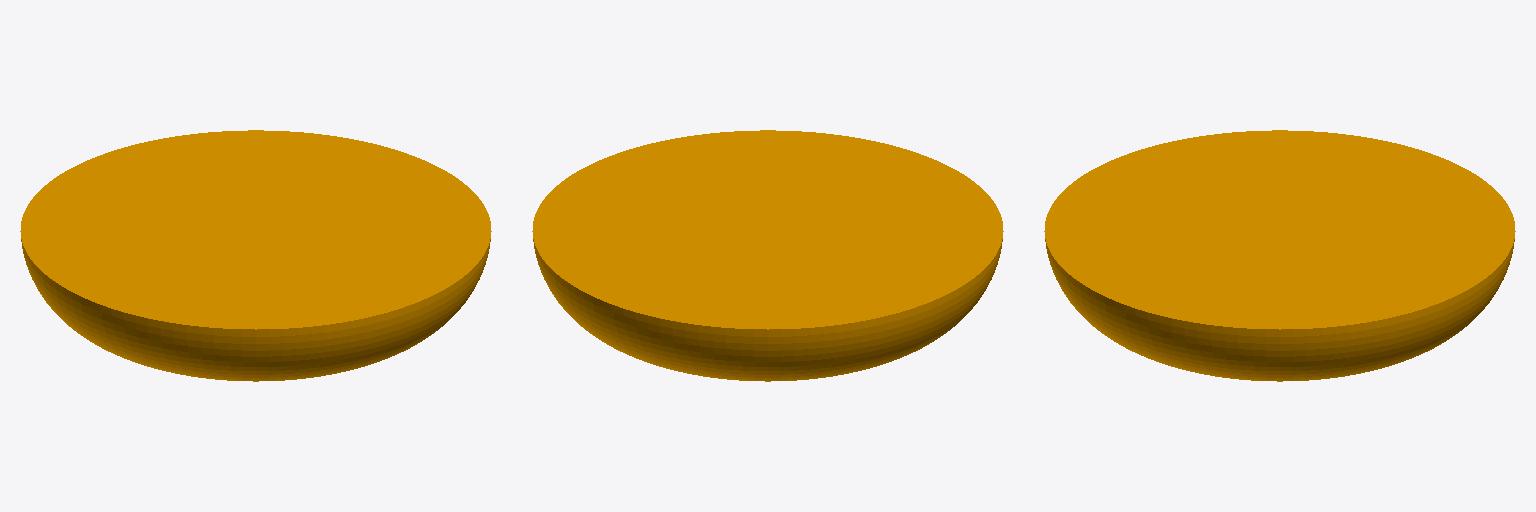
URDF robot description (block):
<?xml version="1.0"?>
<robot name="block">

<link name="bun_bottom_link">

  <collision>
    <origin xyz="0 0 0" rpy="0 0 0"/>
    <geometry>
      <!-- <mesh filename="package://ur_description/meshes/Bun_v3.stl" scale="0.003 0.003 0.003"/> -->
      <box size="0.075 0.075 0.020" />
    </geometry>
  </collision>

  <visual>
    <origin xyz="0 0 0" rpy="0 0 0"/>
    <geometry>
      <mesh filename="package://ur_description/meshes/Bun_v3.stl" scale="0.003 0.003 0.003"/>
    </geometry>
  </visual>

  <inertial>
   <origin xyz="0 0 0" rpy="0 0 0"/>
   <mass value="0.02" />
   <inertia
      ixx="0.0" ixy="0.0"  ixz="0.0"
      iyy="0.0" iyz="0.0"  izz="0.0" />
  </inertial>
</link>

<gazebo reference="bun_bottom_link">
<static>1</static>
  <mu1>100</mu1>
  <mu2>100</mu2>
  <kp>2147483647</kp>
  <kd>1</kd>
  <maxVel>0</maxVel>
  <minDepth>0.001</minDepth>
  <visual>
    <material>
      <ambient>0.82 0.70 0.54 1.0</ambient>
      <diffuse>0.82 0.70 0.54 1.0</diffuse>
      <specular>0 0 0 1.0</specular>
      <emissive>0 0 0 1.0</emissive>
    </material>
  </visual>
</gazebo>

</robot>

--- Facts derived from the render (not from the file) ---
3 views of the same robot in one strip: view 1: azimuth 30°, elevation 25°; view 2: azimuth 150°, elevation 25°; view 3: azimuth 270°, elevation 25° (orthographic).
Model block with 1 links and 0 joints (none), rooted at bun_bottom_link, posed every joint at zero.
Visible links, largest first — view 1: bun_bottom_link; view 2: bun_bottom_link; view 3: bun_bottom_link.
Link boxes in pixels (x1,y1,x2,y2): bun_bottom_link: (20, 130, 491, 381); bun_bottom_link: (532, 130, 1003, 381); bun_bottom_link: (1044, 130, 1515, 381).
Bounding box of the posed robot: 0.1333 × 0.1333 × 0.0261 m (x, y, z).
Meshes: 1 distinct files referenced, 1 mesh visuals loaded (1 binary STL).
